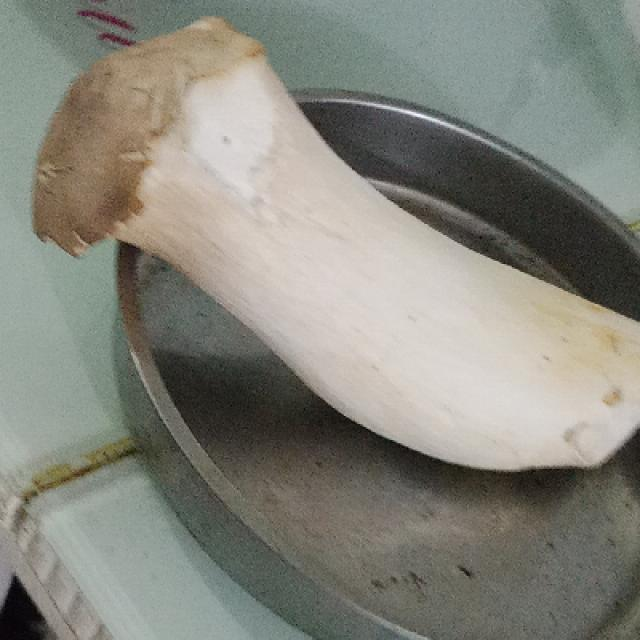Pleurotus eryngii: (33, 14, 640, 470)
